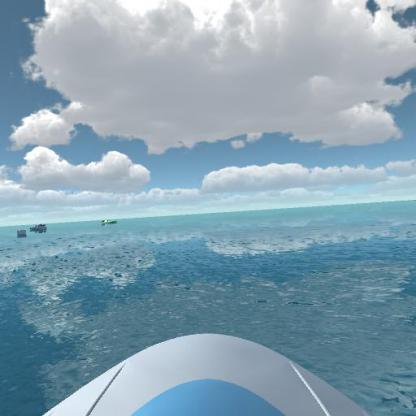usv0: (100, 216, 119, 227)
usv1: (29, 222, 50, 234)
